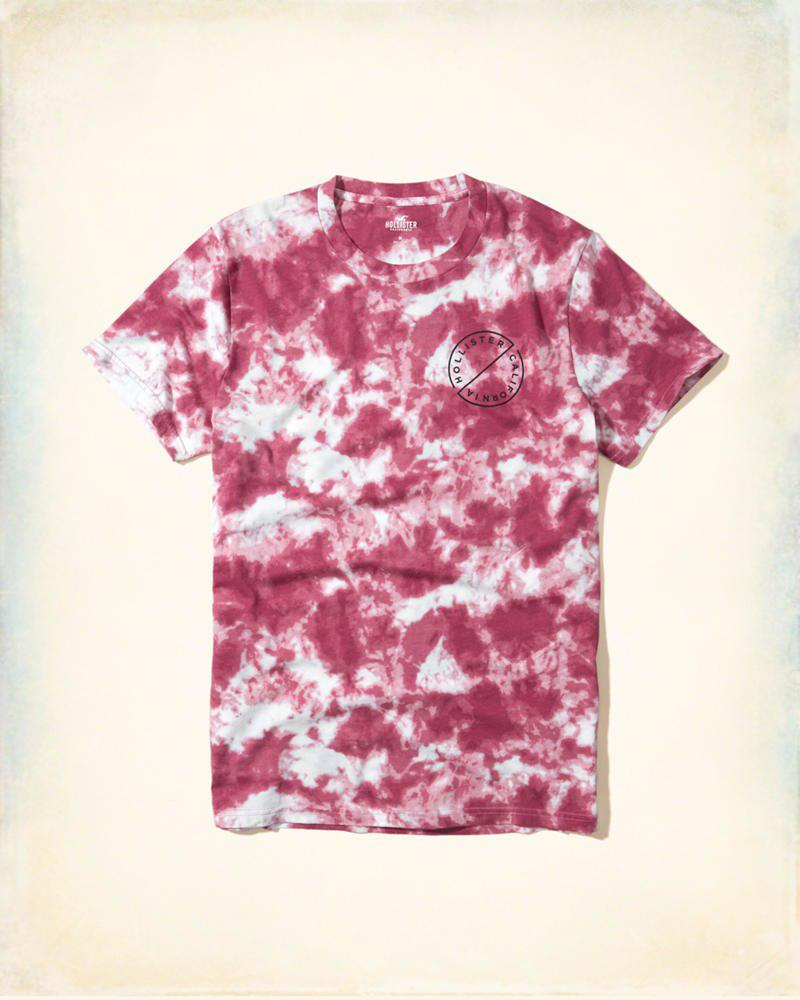teeshirt: (97, 139, 729, 889)
